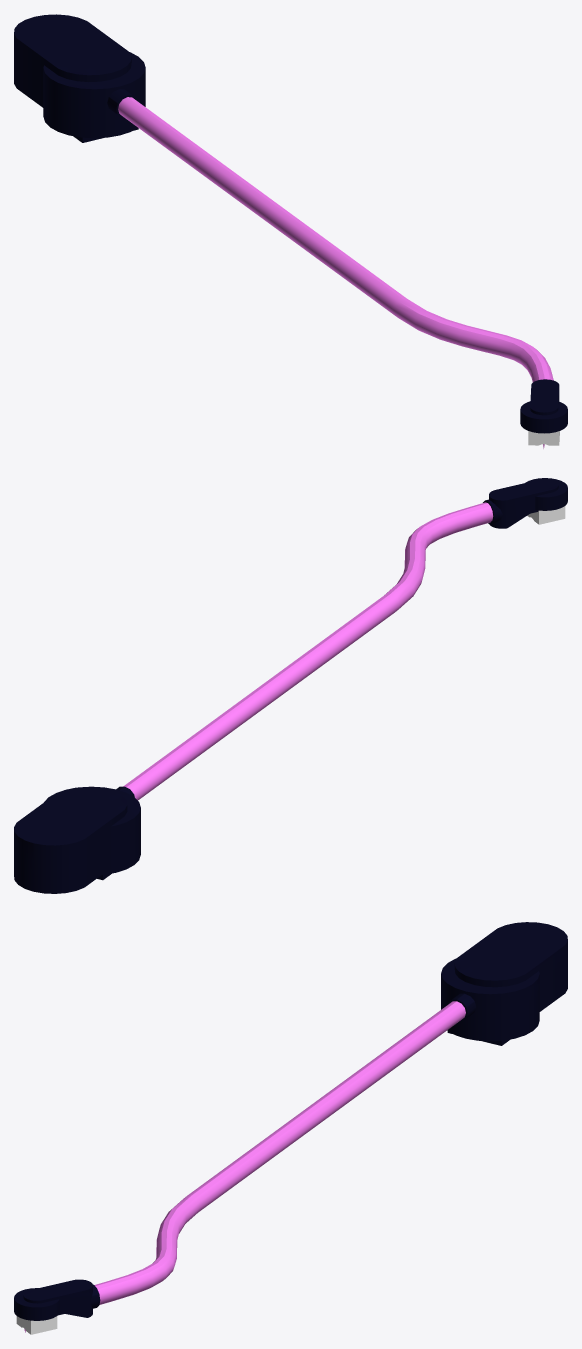
Rendered from Unikko_Arm_A.glb.
3 views of the same model, one above another, from view 1: azimuth 30°, elevation 25°; view 2: azimuth 150°, elevation 25°; view 3: azimuth 330°, elevation 25° (orthographic). The views are drawn at different scales.
Visible parts, largest first — view 1: Unikko_Arm_A; view 2: Unikko_Arm_A; view 3: Unikko_Arm_A.
Part boxes in pixels (x1,y1,x2,y2): Unikko_Arm_A: [14, 14, 567, 448]; Unikko_Arm_A: [14, 478, 567, 893]; Unikko_Arm_A: [14, 922, 567, 1334].
Bounding box in the file's own units: 0.0211 × 0.0131 × 0.1983.
2 materials, 1 textured.
